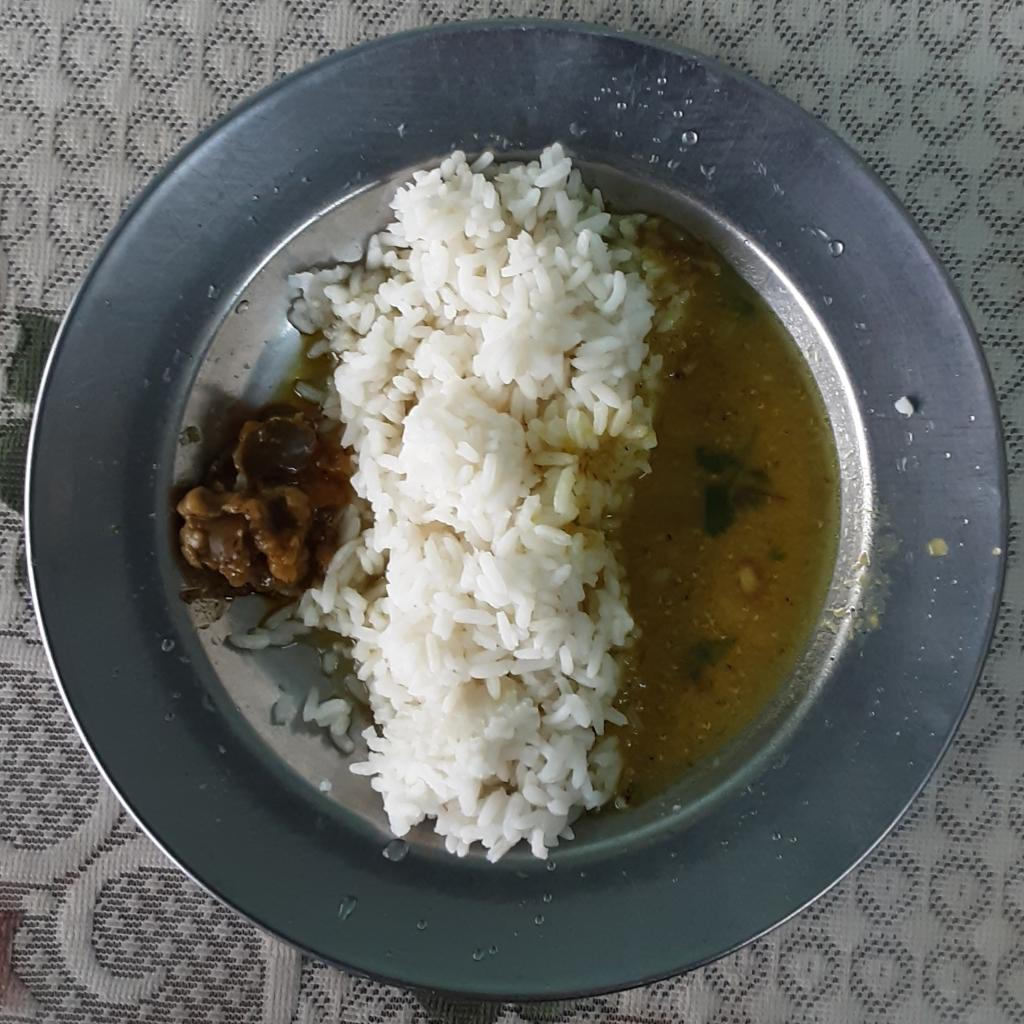achar: (178, 404, 354, 592)
daal: (605, 223, 841, 805)
rice: (221, 138, 664, 866)
